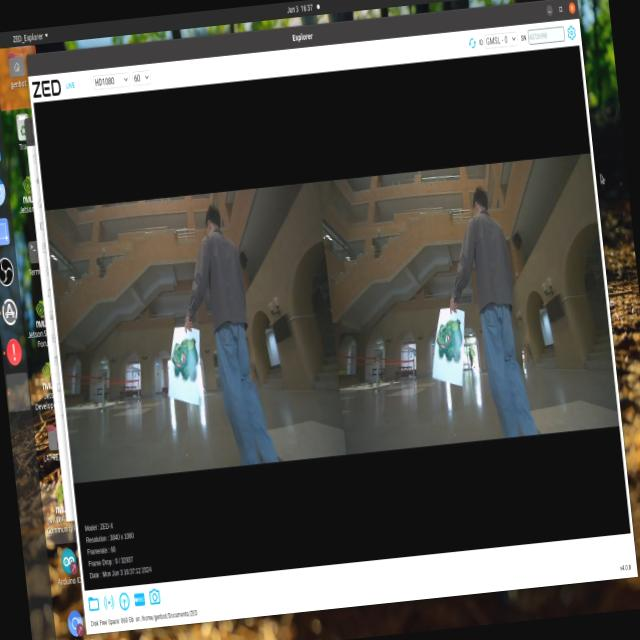green: (170, 330, 204, 388), (436, 315, 467, 366)
